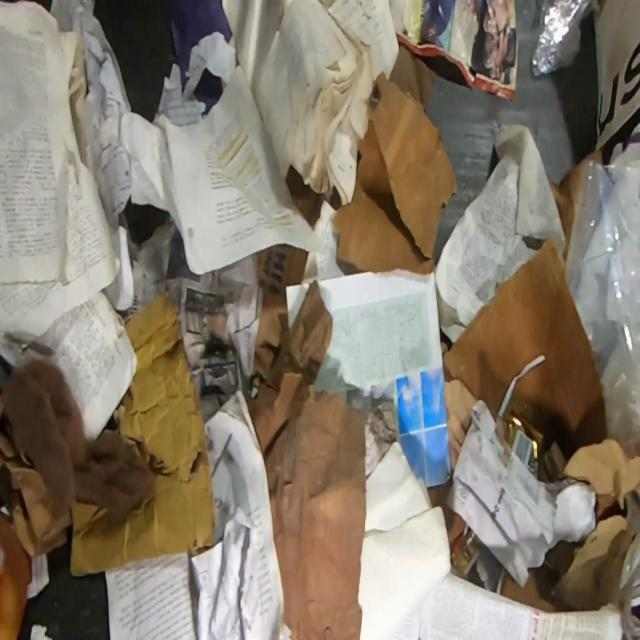cardboard: (247, 243, 367, 640), (71, 288, 218, 576), (442, 238, 606, 463), (333, 70, 459, 275), (501, 538, 594, 613), (547, 154, 597, 244)
soft_plastic: (564, 135, 640, 455), (532, 0, 599, 78), (506, 416, 540, 479)
